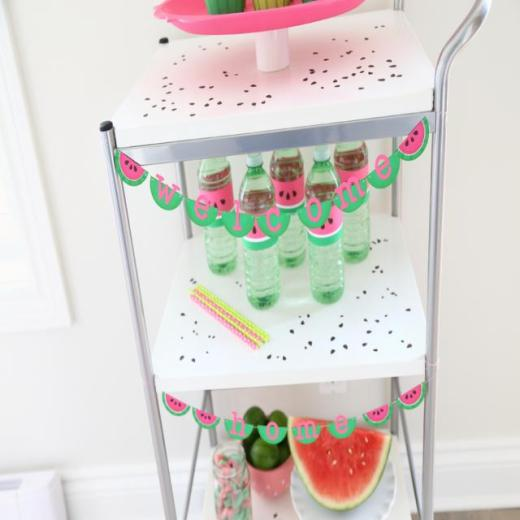Cherry: (287, 415, 393, 511)
